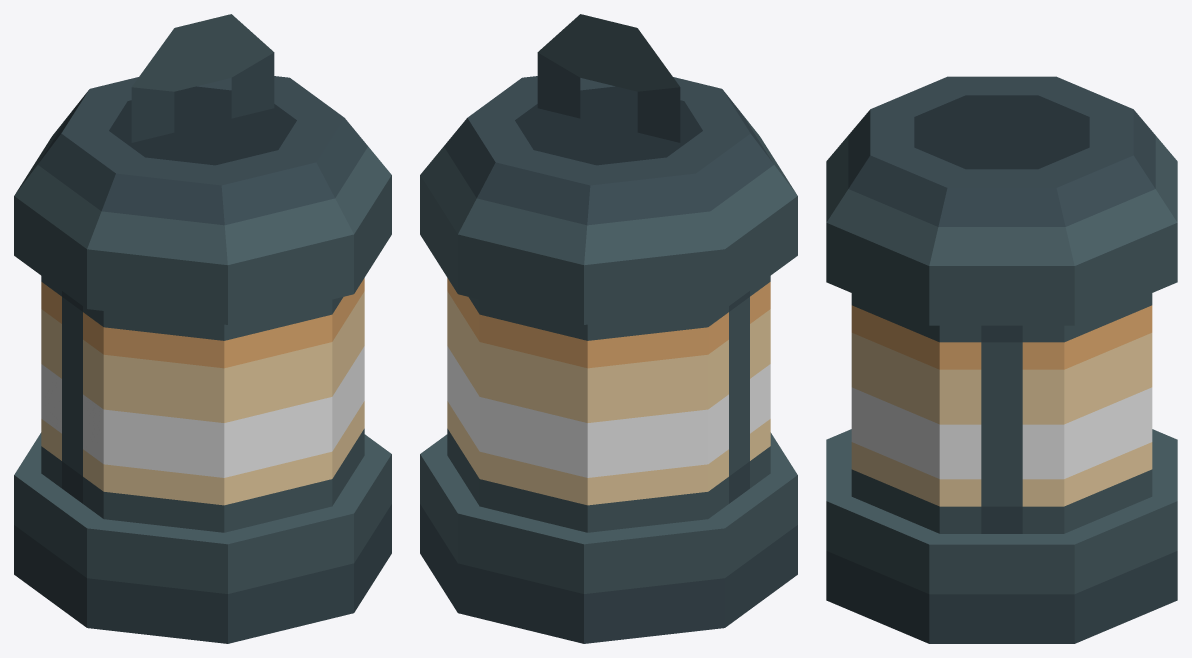
Rendered from lantern1.fbx.
3 views of the same model, side by side, from view 1: azimuth 30°, elevation 25°; view 2: azimuth 150°, elevation 25°; view 3: azimuth 270°, elevation 25° (orthographic).
Visible parts, largest first — view 1: lantern_top, lantern, light, hook; view 2: lantern_top, lantern, light, hook; view 3: lantern_top, lantern, light.
Part boxes in pixels (left/top/right/bottom): lantern_top: left=14, top=76, right=391, bottom=324; lantern: left=14, top=276, right=391, bottom=643; light: left=41, top=278, right=364, bottom=505; hook: left=131, top=14, right=274, bottom=142; lantern_top: left=420, top=76, right=797, bottom=324; lantern: left=420, top=276, right=797, bottom=643; light: left=447, top=278, right=770, bottom=505; hook: left=537, top=14, right=680, bottom=142; lantern_top: left=826, top=76, right=1177, bottom=325; lantern: left=826, top=293, right=1177, bottom=643; light: left=851, top=305, right=1152, bottom=506.
Size of the model in its own units: 50 by 85.16 by 50.
Materials: 1 (1 with a texture image).
